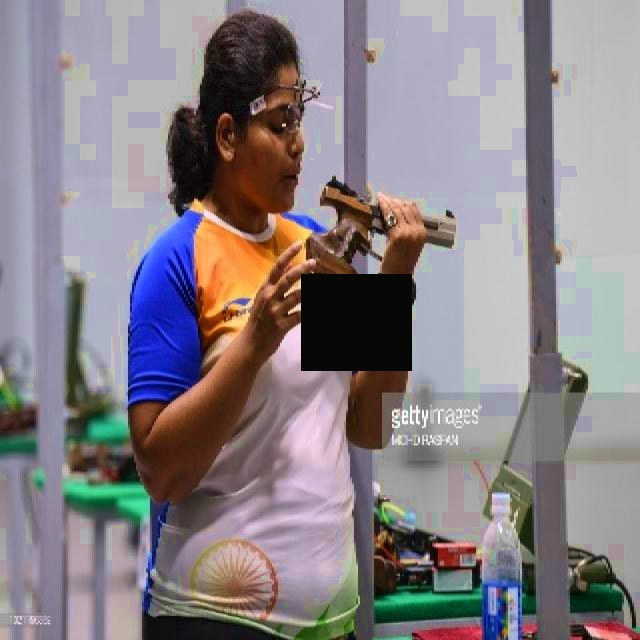gun: (303, 172, 455, 288)
